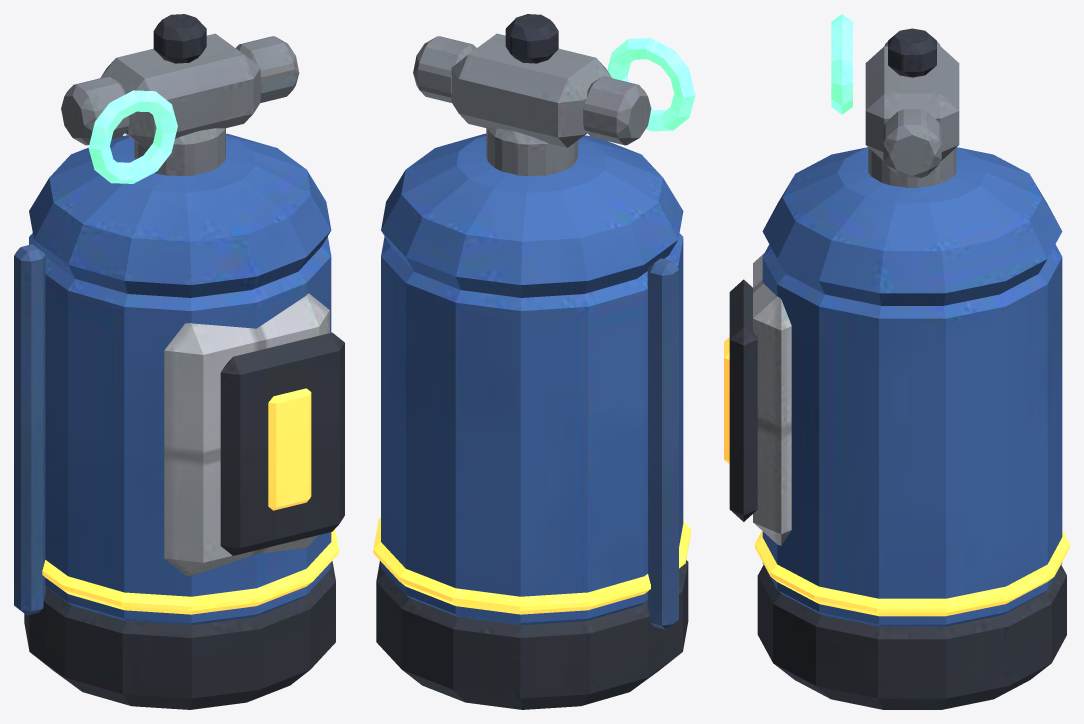
Rendered from oxygen-canister.glb.
The picture shows the model from 3 angles, left to right: view 1: azimuth 30°, elevation 25°; view 2: azimuth 150°, elevation 25°; view 3: azimuth 270°, elevation 25°; orthographic projection.
Visible parts, largest first — view 1: Body, Shoulder, BaseRing, AirWindowFrame, FrontPlate, Strap, ValveBlock, BaseBand, AirWindowPane, FullRing, ValvePortL, Neck (+2 smaller); view 2: Body, Shoulder, BaseRing, Strap, ValveBlock, BaseBand, ValvePortL, FullRing, Neck, ValvePortR, ValveKnob; view 3: Body, Shoulder, BaseRing, FrontPlate, AirWindowFrame, ValveBlock, BaseBand, ValvePortR, FullRing, ValveKnob, Neck, AirWindowPane.
Boxes of the visible parts, left/top/right/bottom form: Body: left=29, top=233, right=331, bottom=625; Shoulder: left=29, top=133, right=331, bottom=297; BaseRing: left=24, top=561, right=335, bottom=709; AirWindowFrame: left=220, top=332, right=344, bottom=555; FrontPlate: left=164, top=293, right=329, bottom=576; Strap: left=14, top=244, right=45, bottom=615; ValveBlock: left=100, top=33, right=260, bottom=147; BaseBand: left=42, top=529, right=338, bottom=614; AirWindowPane: left=268, top=388, right=311, bottom=510; FullRing: left=88, top=90, right=177, bottom=183; ValvePortL: left=61, top=76, right=129, bottom=145; Neck: left=134, top=128, right=225, bottom=176; Body: left=381, top=233, right=683, bottom=625; Shoulder: left=381, top=133, right=683, bottom=297; BaseRing: left=376, top=560, right=688, bottom=709; Strap: left=647, top=258, right=678, bottom=629; ValveBlock: left=451, top=33, right=611, bottom=147; BaseBand: left=373, top=517, right=690, bottom=614; ValvePortL: left=583, top=76, right=651, bottom=145; FullRing: left=607, top=38, right=695, bottom=131; Neck: left=486, top=128, right=577, bottom=176; ValvePortR: left=413, top=36, right=476, bottom=102; ValveKnob: left=505, top=14, right=558, bottom=63; Body: left=762, top=244, right=1062, bottom=626; Shoulder: left=762, top=147, right=1062, bottom=305; BaseRing: left=757, top=565, right=1066, bottom=709; FrontPlate: left=753, top=253, right=791, bottom=545; AirWindowFrame: left=729, top=279, right=757, bottom=521; ValveBlock: left=865, top=46, right=959, bottom=160; BaseBand: left=755, top=530, right=1069, bottom=616; ValvePortR: left=883, top=109, right=941, bottom=177; FullRing: left=831, top=14, right=852, bottom=114; ValveKnob: left=888, top=28, right=936, bottom=77; Neck: left=868, top=147, right=956, bottom=187; AirWindowPane: left=724, top=337, right=729, bottom=464.
Size of the model in its own units: 0.3488 by 0.73 by 0.369.
8 materials, 8 textured.
